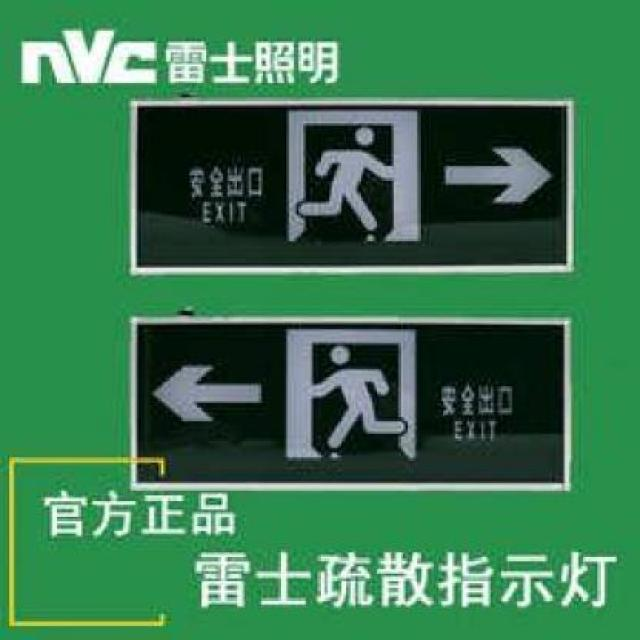exit_sign: (116, 314, 578, 501), (126, 99, 579, 283)
